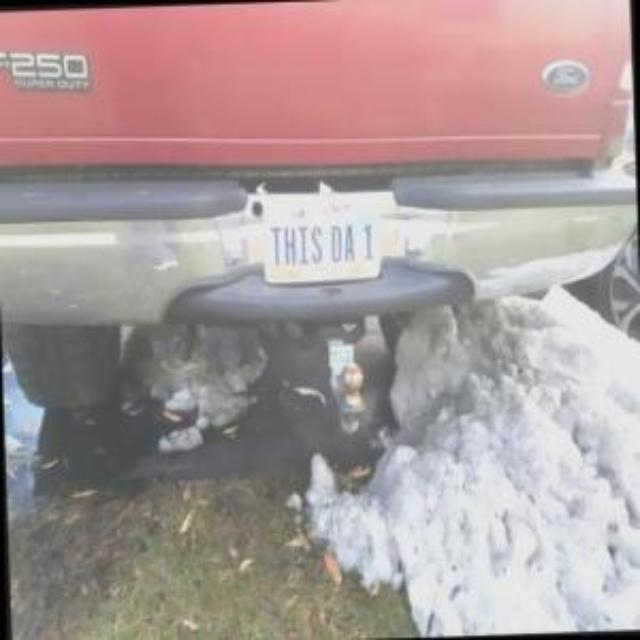License Plate: (262, 198, 380, 285)
